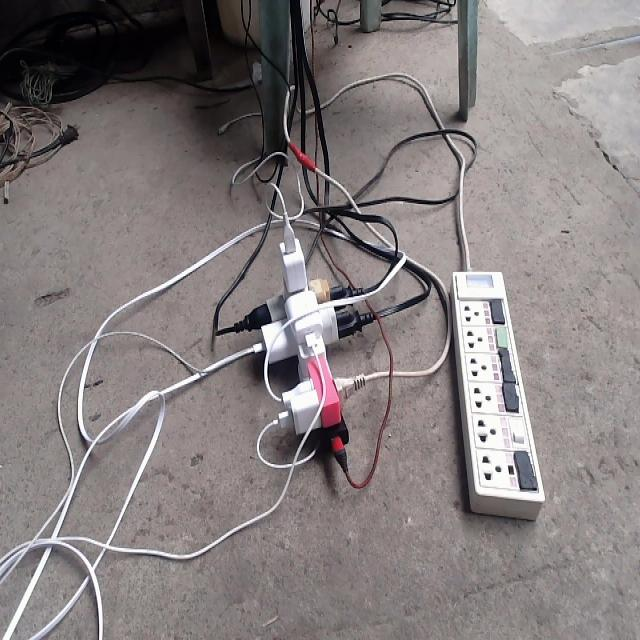-: (246, 229, 366, 463)
